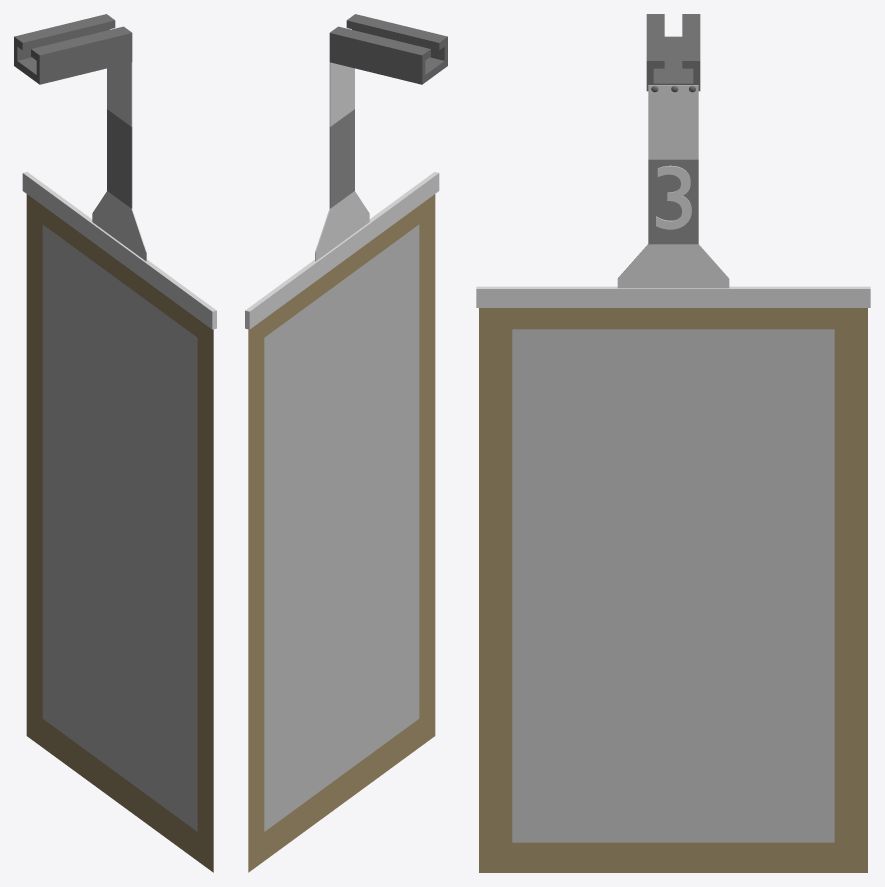
File: Target 3.fbx
3 views of the same model, side by side, from view 1: azimuth 30°, elevation 25°; view 2: azimuth 150°, elevation 25°; view 3: azimuth 270°, elevation 25° (orthographic). The views are drawn at different scales.
Visible parts, largest first — view 1: Target 3; view 2: Target 3; view 3: Target 3.
Part boxes in pixels (bbox=[...]): Target 3: bbox=[14, 14, 216, 872]; Target 3: bbox=[245, 14, 447, 872]; Target 3: bbox=[476, 14, 870, 872].
Bounding box in the file's own units: 20.55 × 161 × 70.94.
